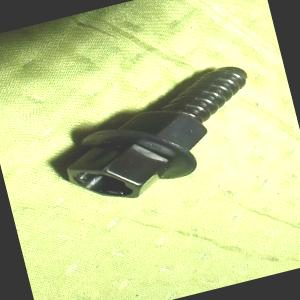parafuso: (49, 62, 269, 212)
